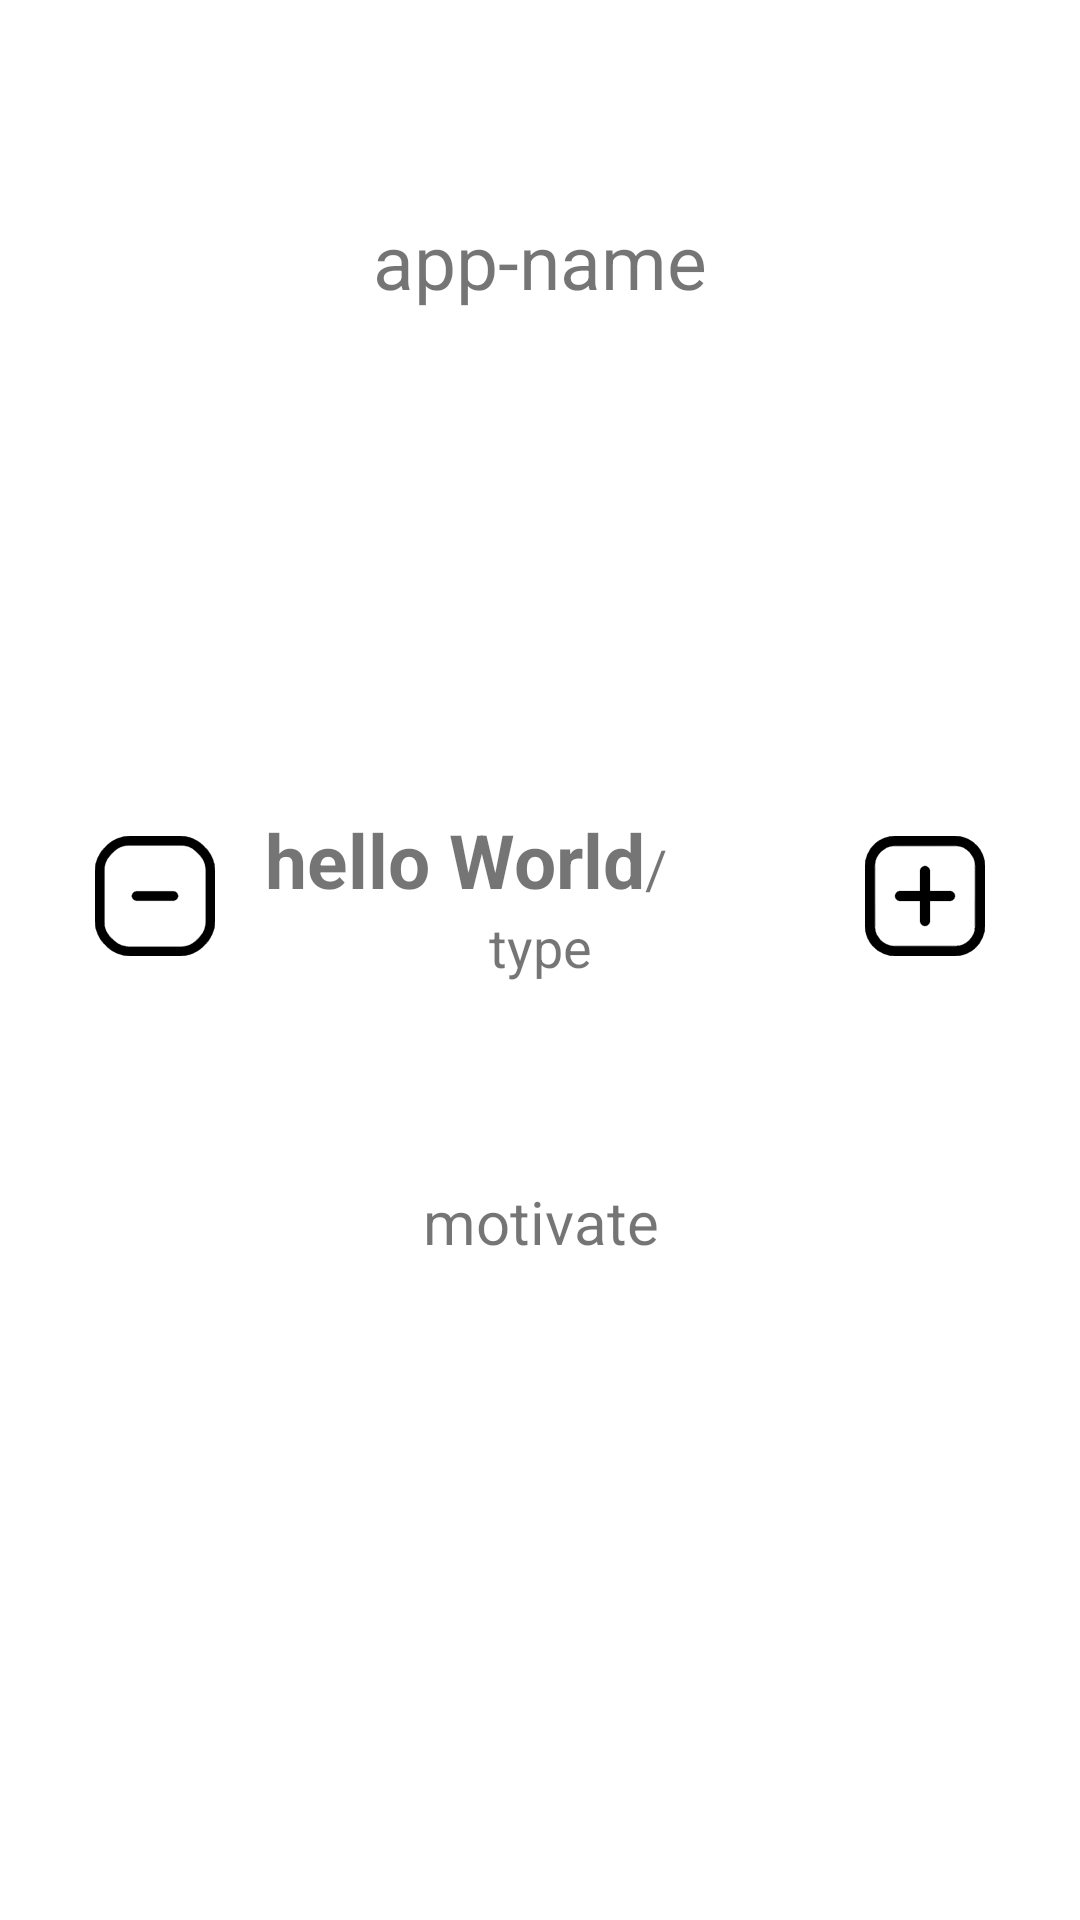

Where icons sit on this 1080w x 1920h app screen, as bbox=[x1, y1, x2, y2]:
minus: bbox=[95, 836, 215, 956]
plus: bbox=[865, 836, 985, 956]
